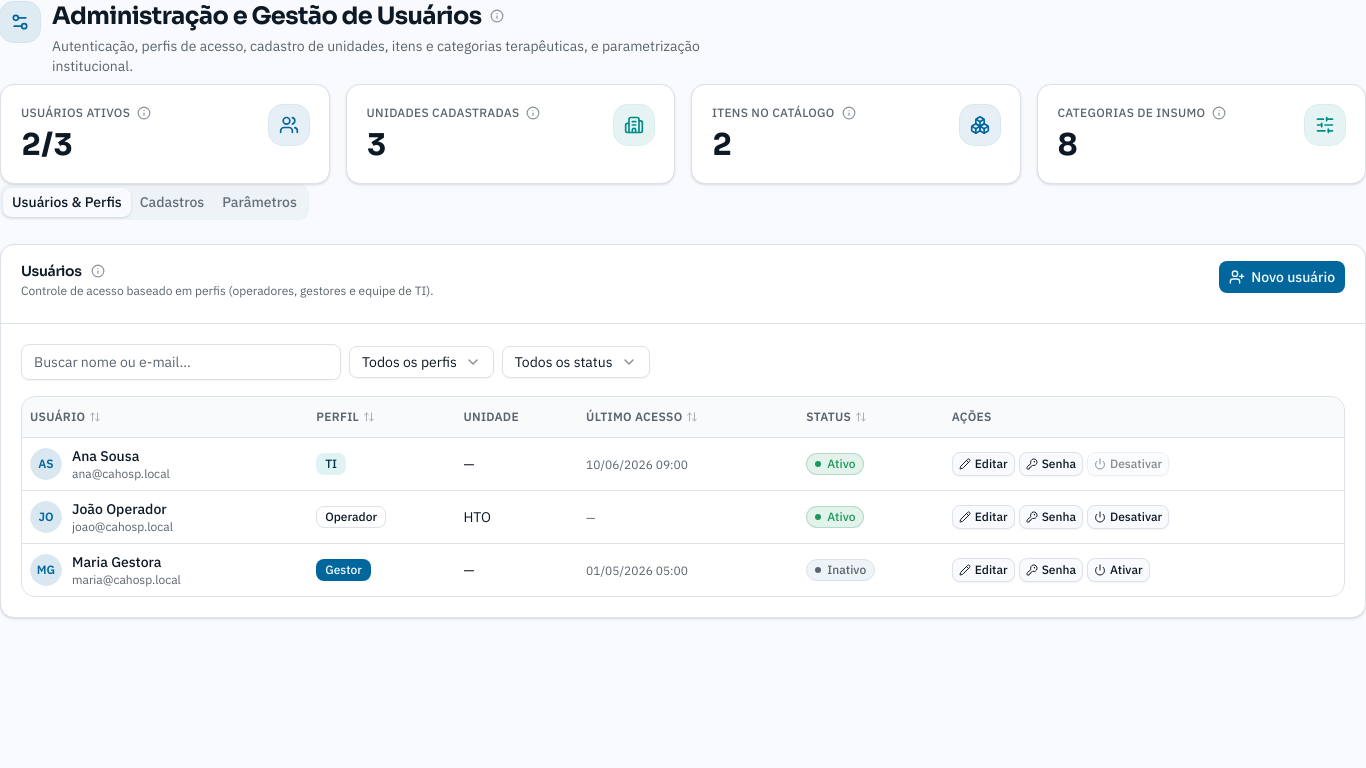
Test: AdminPage › aba Cadastros abre o modal de itens da categoria ao clicar nela
The width and height of the screenshot is (1366, 768).
Click the tab "Cadastros" at (172, 202), box [131,188,213,216]
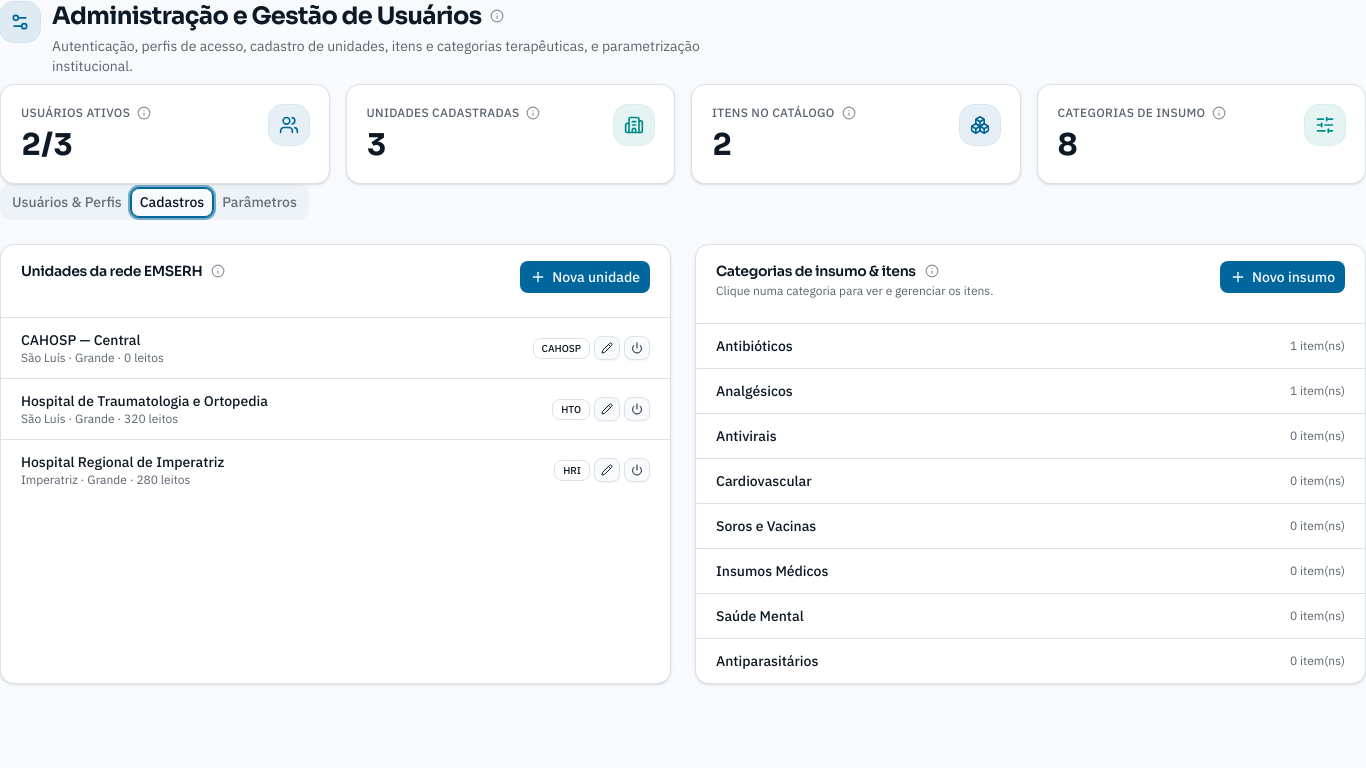
Click the button "Antibióticos 1 item(ns)" at (754, 346), box [696,324,1365,369]
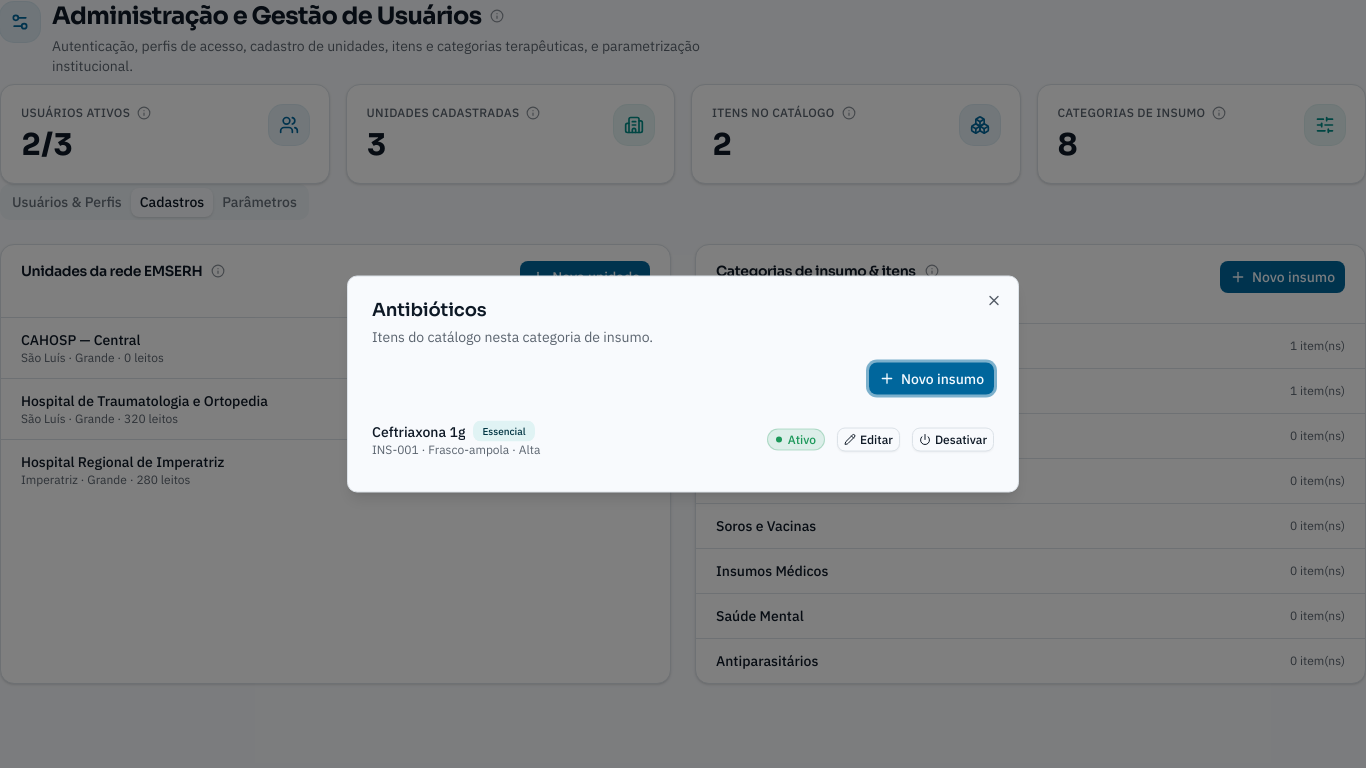
Expected: the text "Ceftriaxona 1g" is shown, [372,421,465,441]
